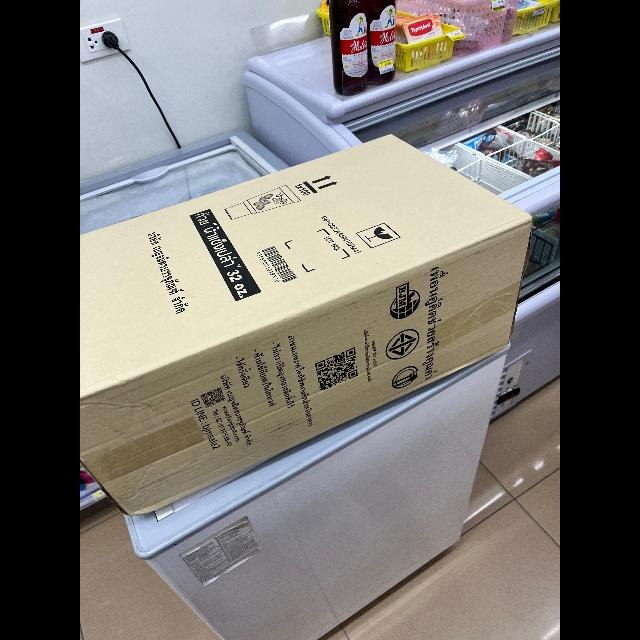cardboard_box: (80, 121, 538, 525)
